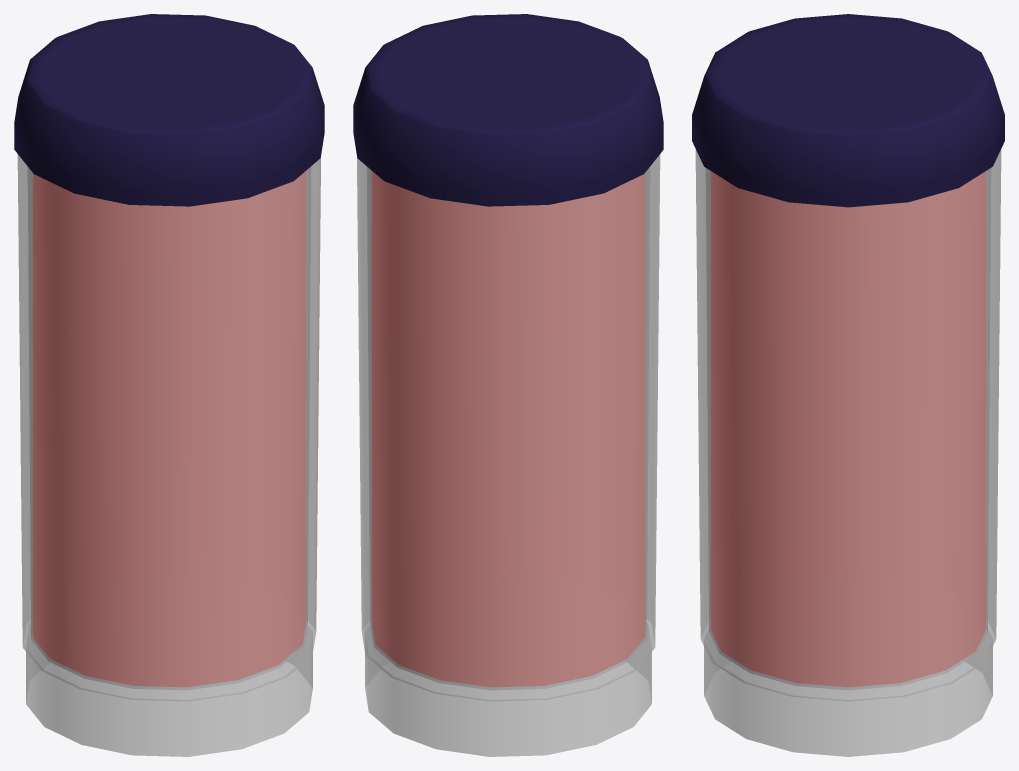
Rendered from High Ball.fbx.
3 views of the same model, side by side, from view 1: azimuth 30°, elevation 25°; view 2: azimuth 150°, elevation 25°; view 3: azimuth 270°, elevation 25° (orthographic).
Visible parts, largest first — view 1: Body, Drink, Cover; view 2: Body, Drink, Cover; view 3: Body, Drink, Cover.
Boxes of the visible parts, x1=… form: Body: x1=17, y1=154, x2=320, y2=756; Drink: x1=33, y1=171, x2=305, y2=686; Cover: x1=14, y1=14, x2=324, y2=206; Body: x1=357, y1=154, x2=660, y2=756; Drink: x1=372, y1=171, x2=644, y2=686; Cover: x1=353, y1=14, x2=663, y2=206; Body: x1=695, y1=149, x2=1001, y2=756; Drink: x1=711, y1=172, x2=985, y2=686; Cover: x1=692, y1=14, x2=1004, y2=207.
Size of the model in its own units: 163 by 359 by 163.
